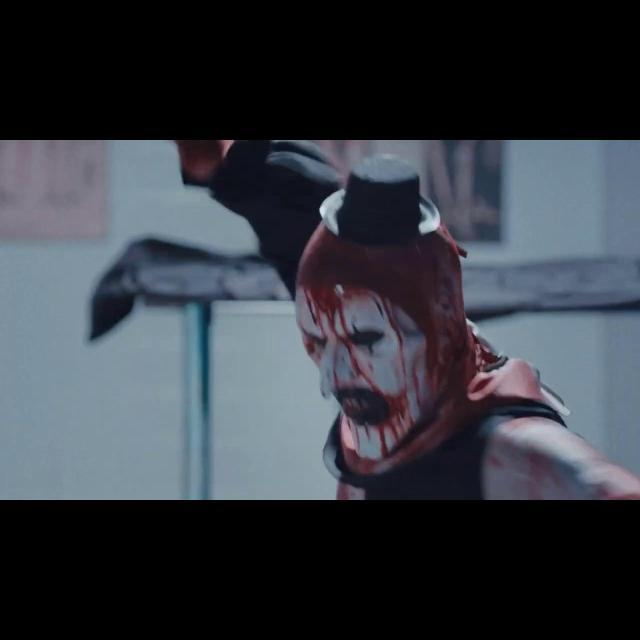blood: (171, 140, 640, 500)
